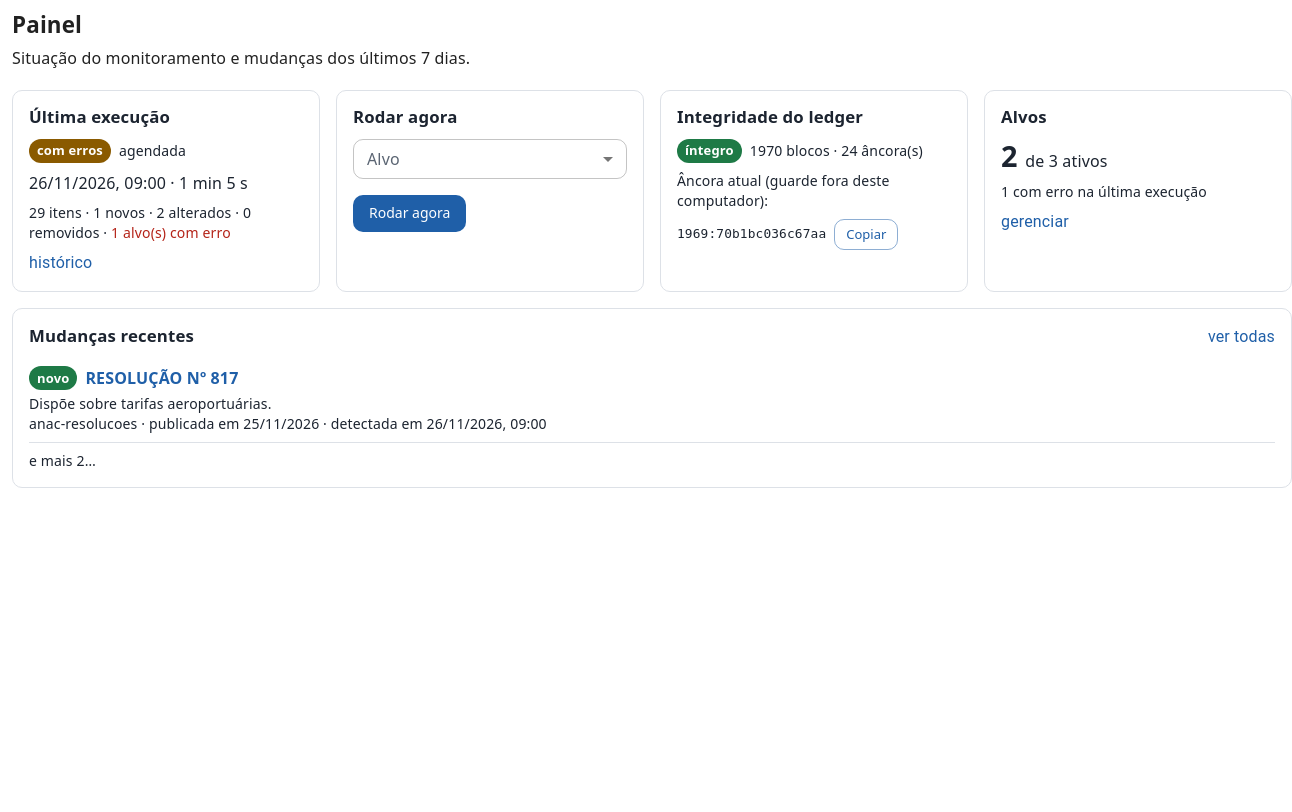
Scenario: PainelPage › execução já em andamento: avisa o erro 409 do servidor
The width and height of the screenshot is (1292, 812).
Click the button "Rodar agora" at (410, 213), box x1=353 y1=195 x2=466 y2=232
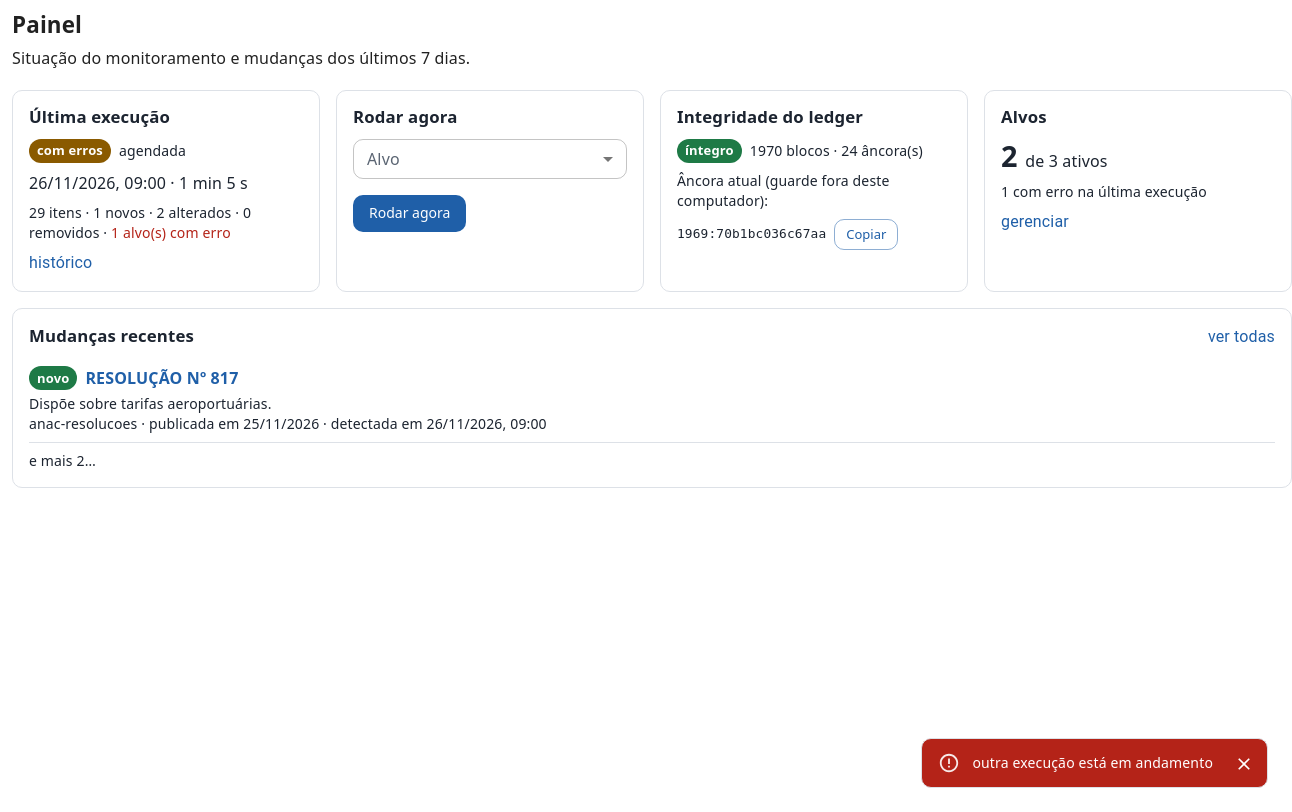
Result: the text "outra execução está em andamento" is shown at x1=972 y1=753 x2=1213 y2=772
